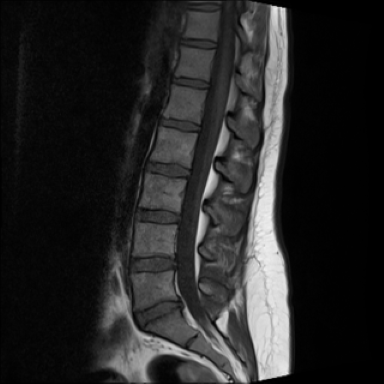Lumbar Disc Bulge LDB: (129, 292, 188, 334)
Normal IVD: (127, 254, 182, 279), (139, 161, 197, 181), (132, 206, 187, 227), (155, 115, 205, 135), (174, 33, 221, 52), (170, 74, 213, 93), (185, 2, 225, 13)
Spinal Stenosis SS: (172, 293, 190, 315)
